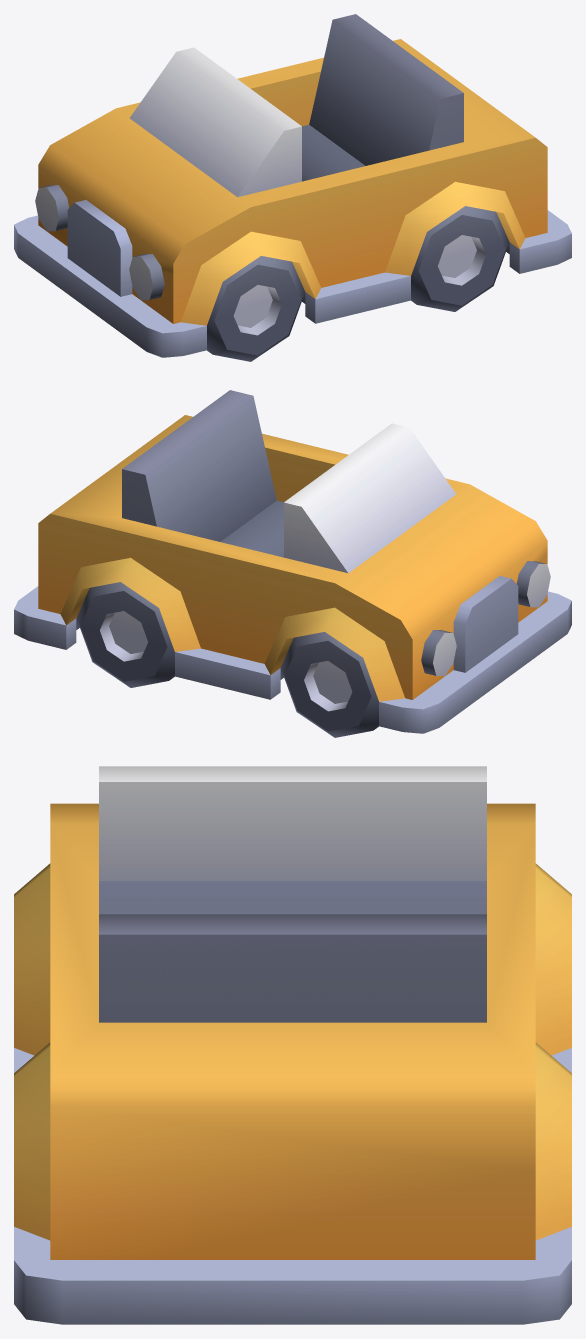
File: vehicle-convertible.glb
3 views of the same model, one above another, from view 1: azimuth 30°, elevation 25°; view 2: azimuth 150°, elevation 25°; view 3: azimuth 270°, elevation 25° (orthographic). The views are drawn at different scales.
Parts seen in each view (by area): view 1: wheel-back-left; view 2: wheel-back-left; view 3: wheel-back-left.
Part boxes in pixels (bbox=[...]): wheel-back-left: bbox=[14, 14, 571, 361]; wheel-back-left: bbox=[14, 390, 571, 737]; wheel-back-left: bbox=[14, 766, 571, 1324].
Bounding box in the file's own units: 1.42 × 0.677 × 0.9085.
1 material, 1 textured.
